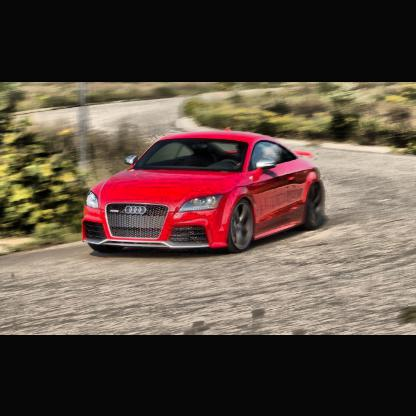Audi TT RS Coupe 2012: (83, 127, 326, 253)
